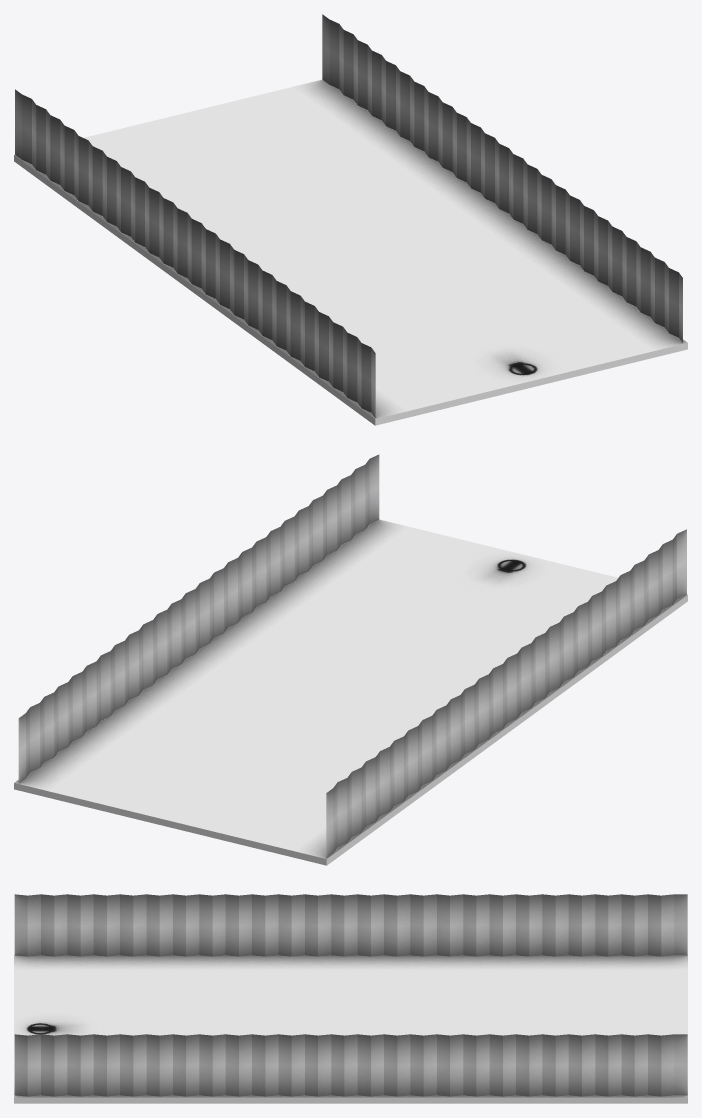
The model's file is warehouse1.obj.
3 renders of one model, top to bottom at view 1: azimuth 30°, elevation 25°; view 2: azimuth 150°, elevation 25°; view 3: azimuth 270°, elevation 25°, orthographic. The views are drawn at different scales.
Visible parts, largest first — view 1: room_Cube; view 2: room_Cube; view 3: room_Cube.
Part boxes in pixels (<box>): room_Cube: <box>14,14,687,425</box>; room_Cube: <box>14,454,687,865</box>; room_Cube: <box>14,894,687,1103</box>.
Size of the model in its own units: 100 by 22.03 by 200.
